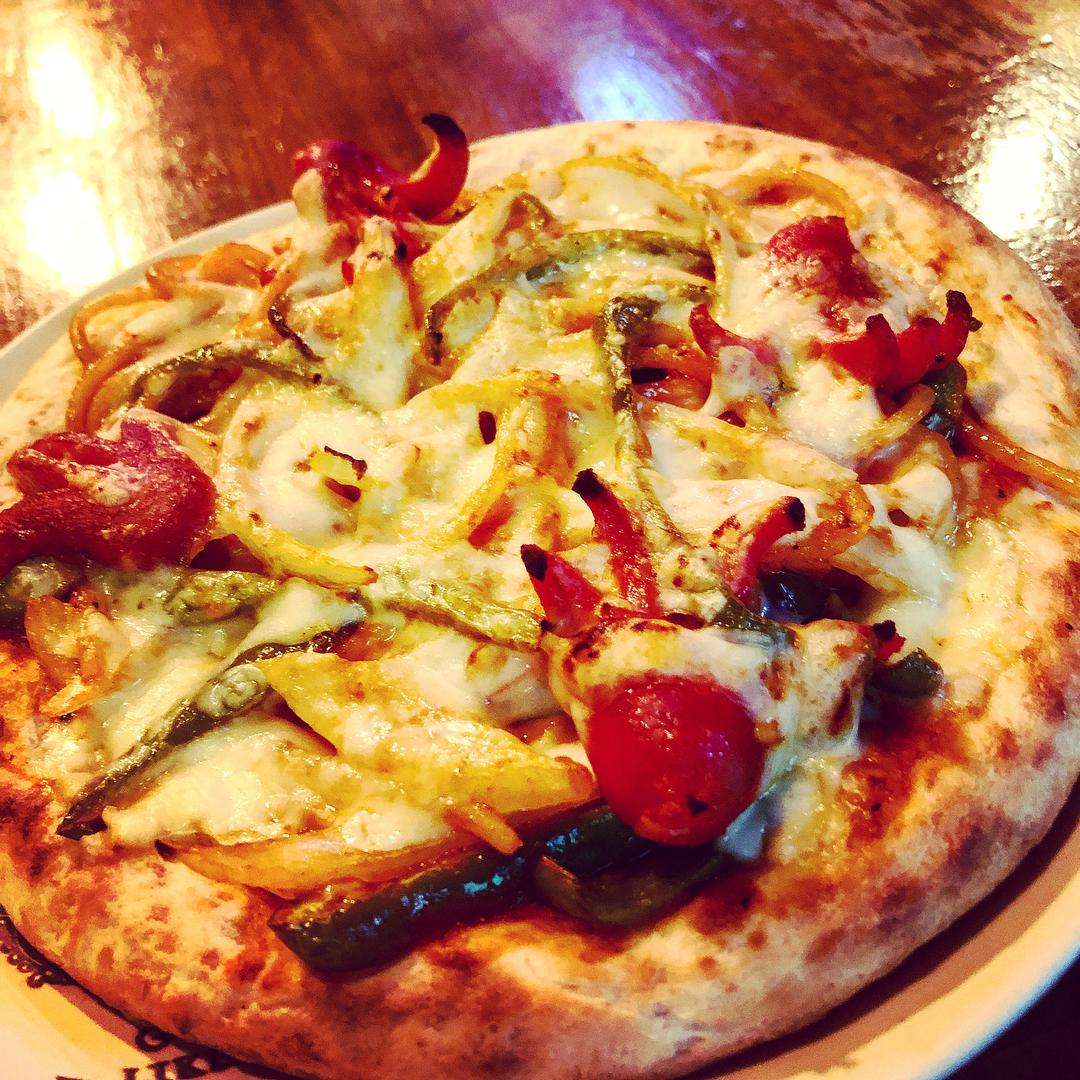Cheese: (260, 413, 499, 580), (175, 733, 419, 846), (321, 645, 529, 728)
Ham: (596, 260, 977, 441), (569, 465, 660, 610), (709, 497, 806, 610), (519, 529, 602, 624)
Pizza: (0, 128, 1080, 1080)
Tomatoes: (555, 666, 787, 862), (0, 413, 227, 582), (295, 140, 493, 233)
